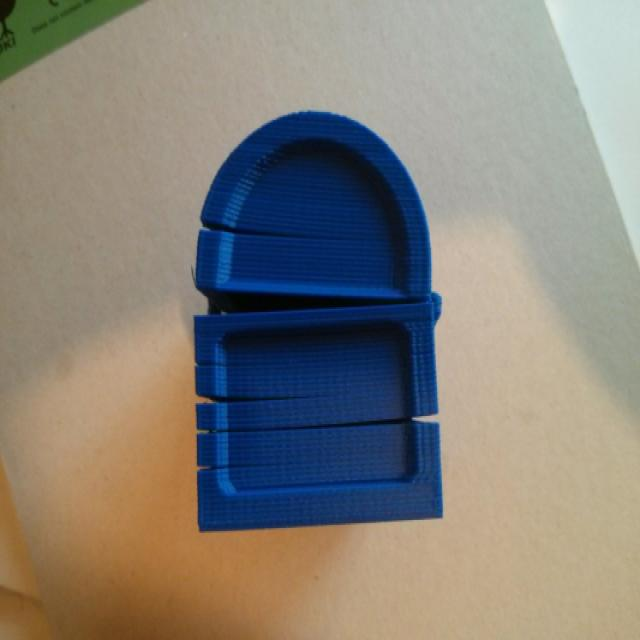cracks: (173, 390, 464, 486), (176, 267, 389, 339), (197, 208, 360, 260)
